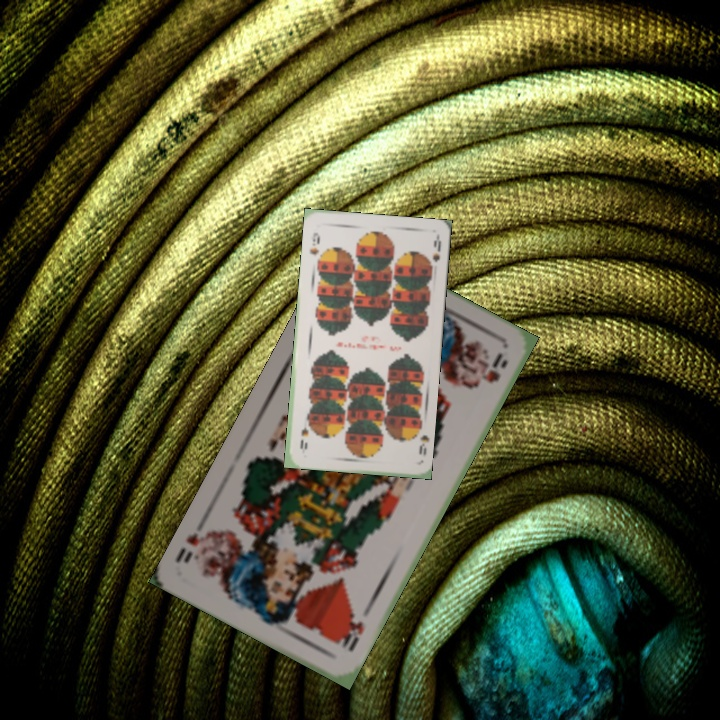HO: (334, 610, 367, 654)
S9: (306, 228, 322, 257), (415, 431, 430, 458)
